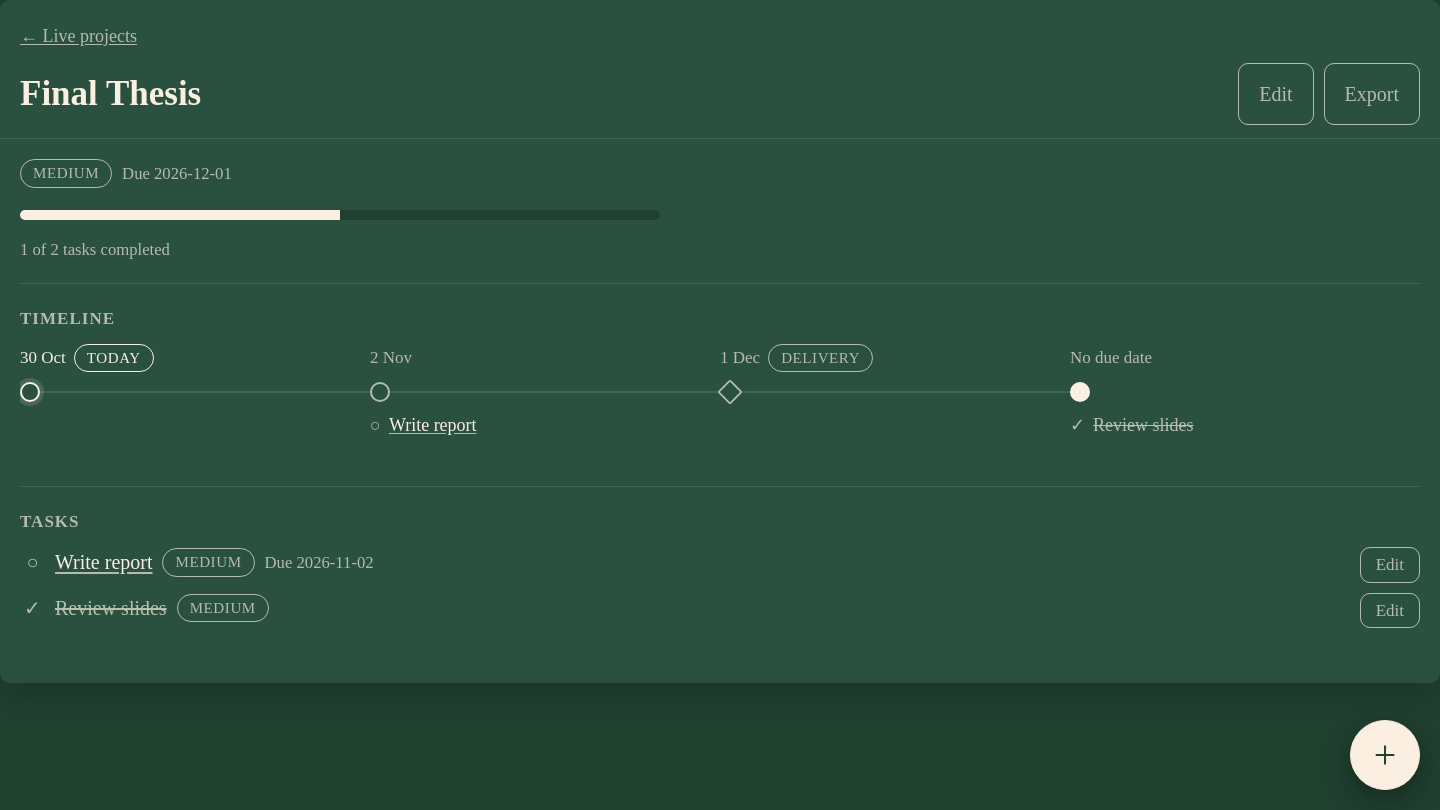
ProjectExport › copies the preview to the clipboard and says so
Click the button "Export".
click(1372, 94)  # box x1=1324 y1=63 x2=1420 y2=125
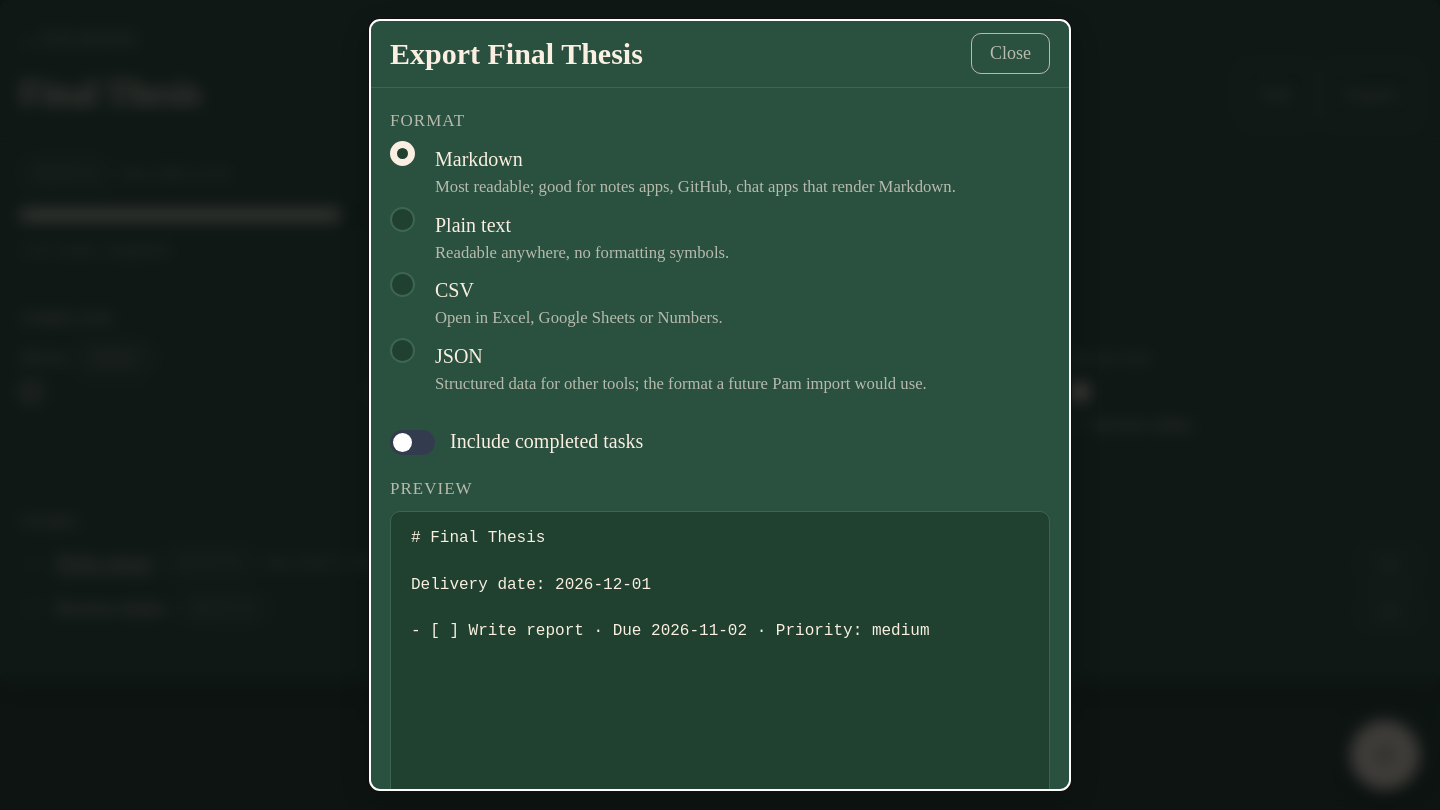
Click the radio button labelled "CSV Open in Excel, Google Sheets or Numbers.".
click(402, 285)  # box x1=390 y1=272 x2=415 y2=297
(page scrolled)
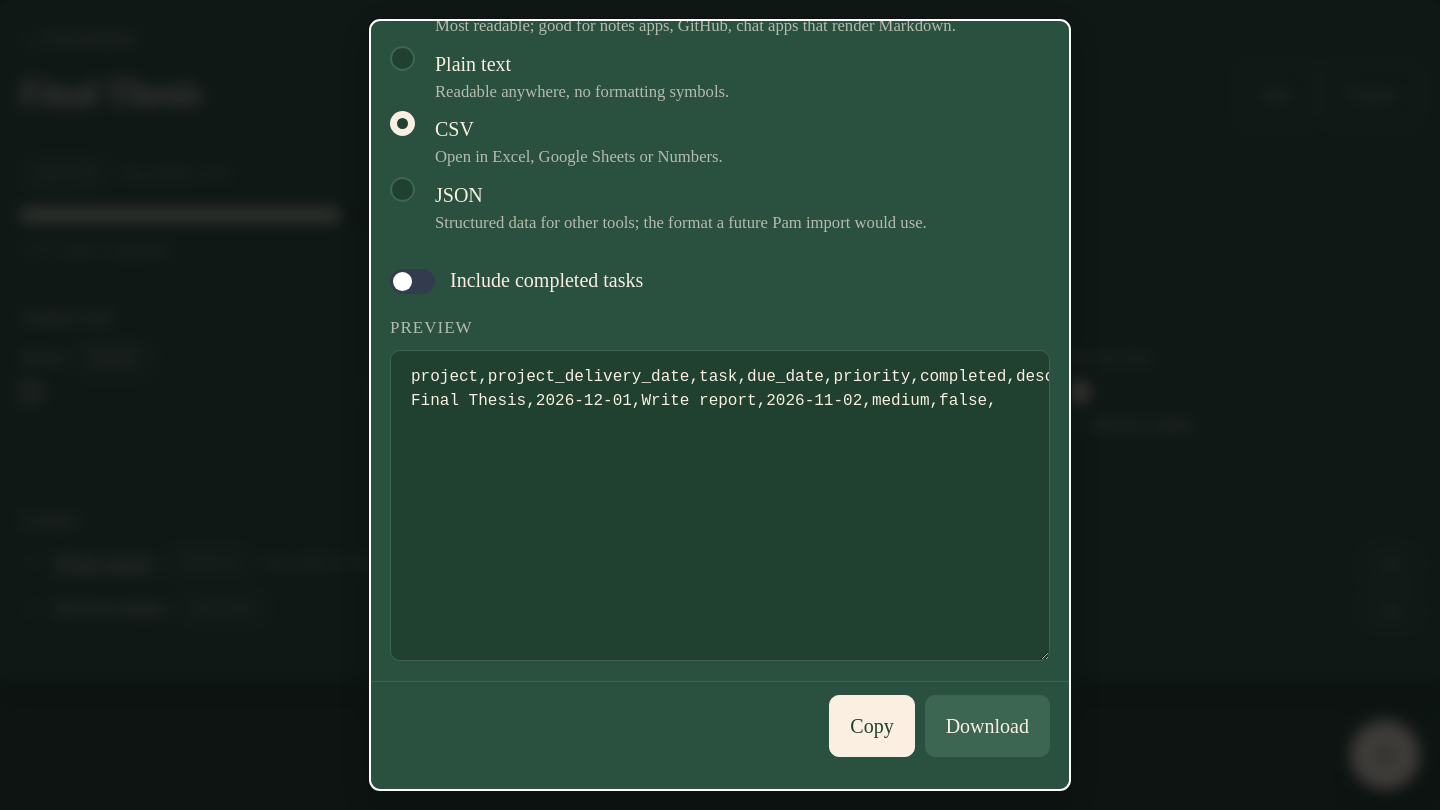
Click the button "Copy".
click(872, 726)  # box x1=829 y1=695 x2=915 y2=757
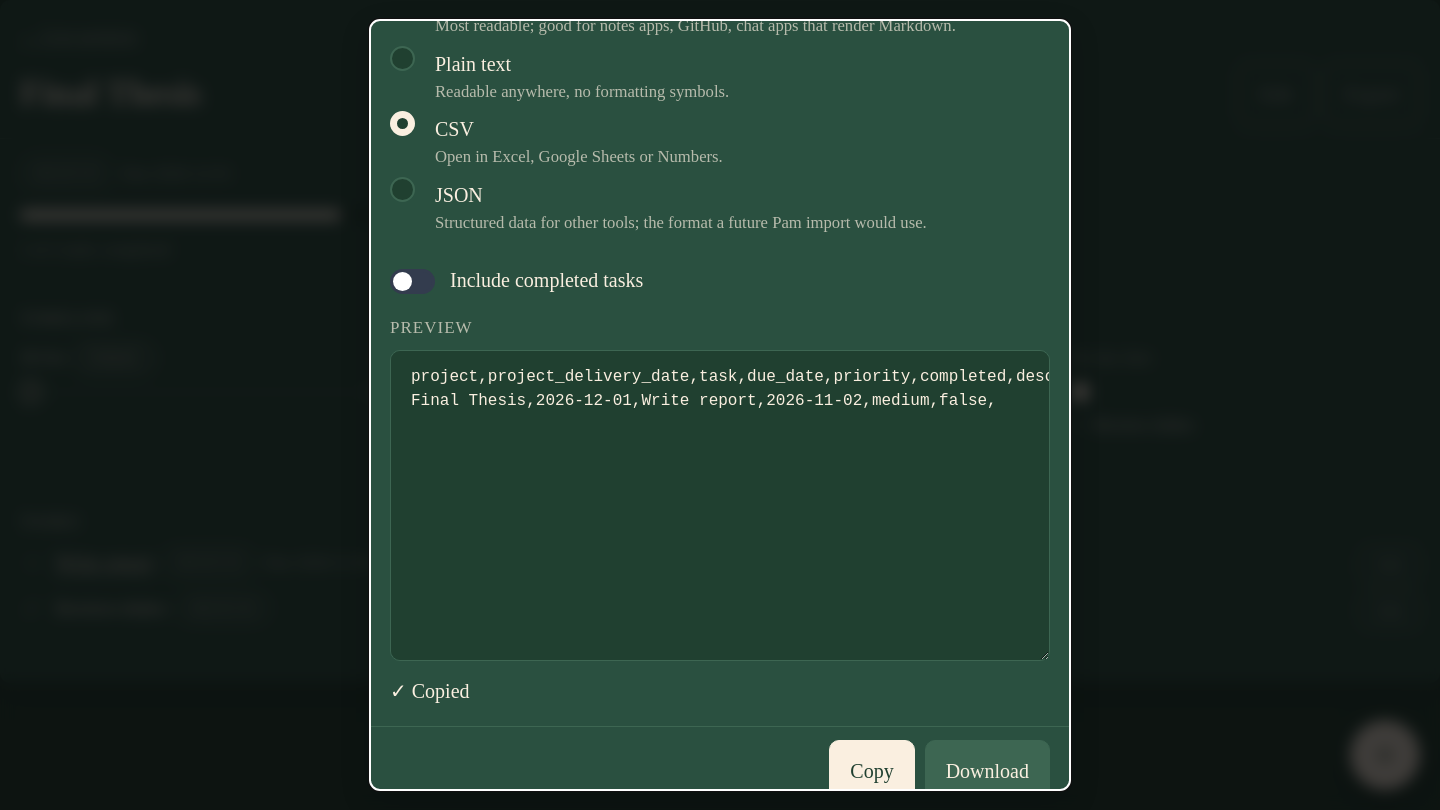
Expected: the message "Copied" is shown, x1=412 y1=680 x2=470 y2=702
